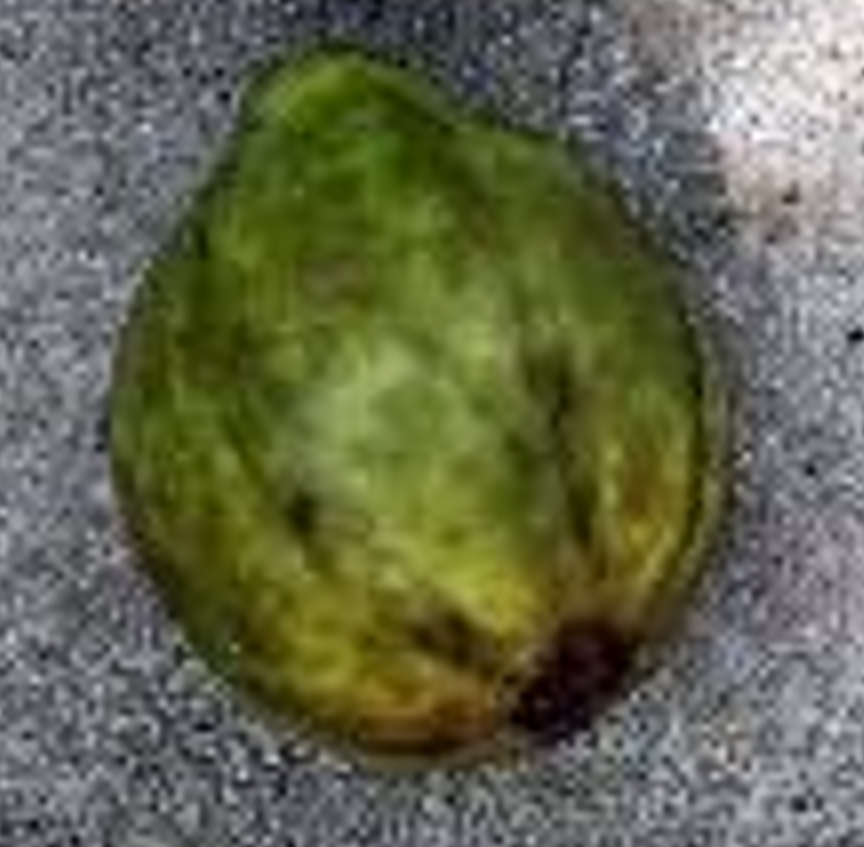guava_B: (107, 47, 724, 766)
